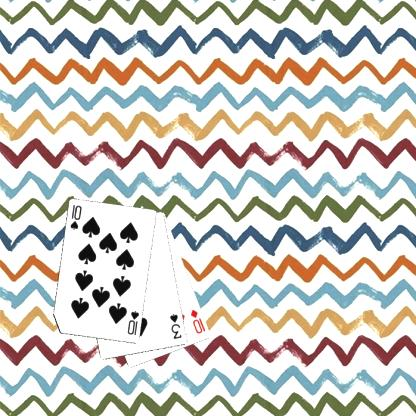10D: (188, 307, 207, 335)
10S: (125, 308, 141, 337), (67, 202, 83, 231)
3S: (167, 311, 183, 340)
